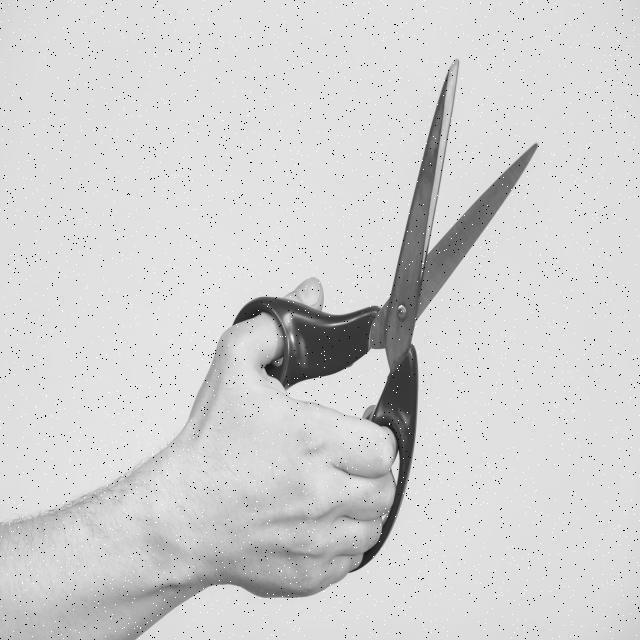scissors: (226, 59, 538, 576)
